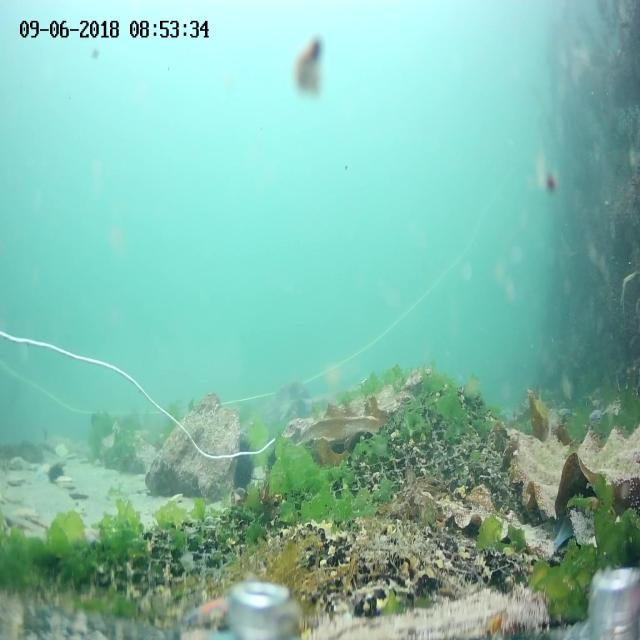echinus: (228, 440, 252, 489), (50, 465, 64, 483)
scallop: (52, 476, 74, 492), (67, 489, 88, 504), (8, 475, 28, 487), (6, 494, 26, 506)
starfish: (184, 596, 236, 632), (69, 521, 103, 553), (16, 506, 42, 524), (8, 454, 30, 473), (32, 460, 52, 478)
